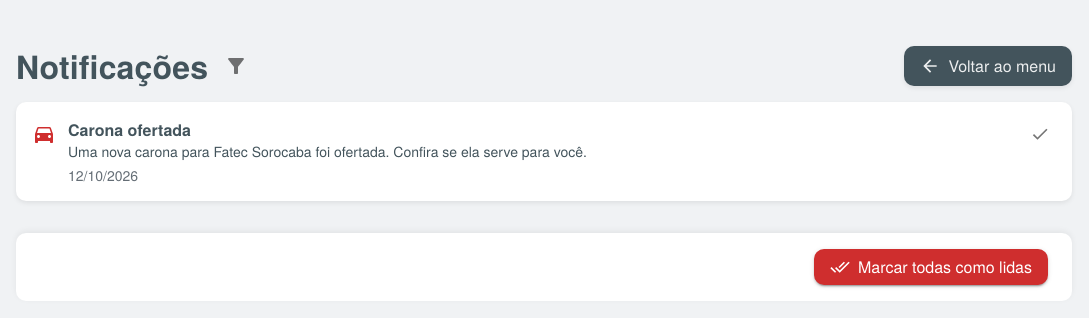
Test: Notifications › should say the notice failed to open and stay when the ride cannot be read
What coordinates should you click on to do the following:
click the text "Uma nova carona para Fatec Sorocaba foi ofertada. Confira se ela serve para você."
I would click on:
 (327, 152)
Its box is [68,142,587,162].
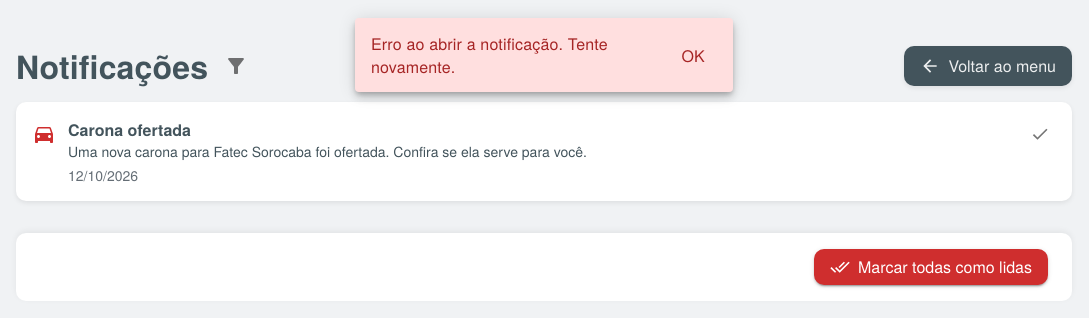
Expected: the text "Erro ao abrir a notificação. Tente novamente." is shown, [371,32,608,78]
